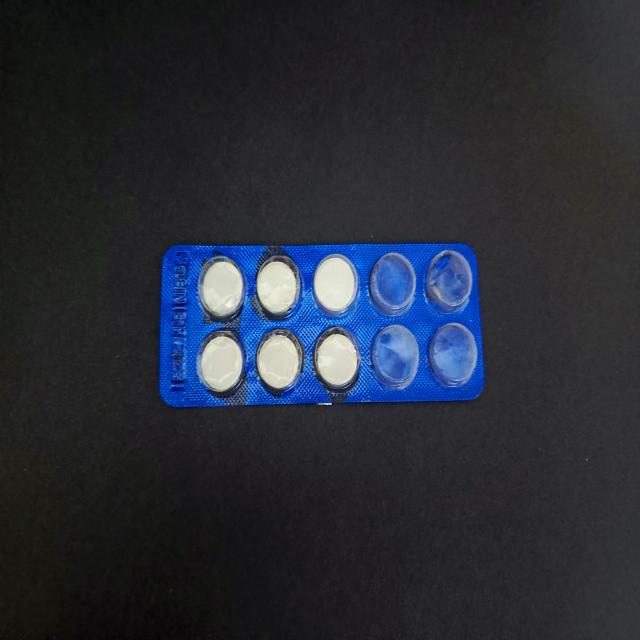defect: (426, 319, 479, 388), (369, 323, 421, 390), (424, 248, 474, 314), (368, 250, 417, 316)
